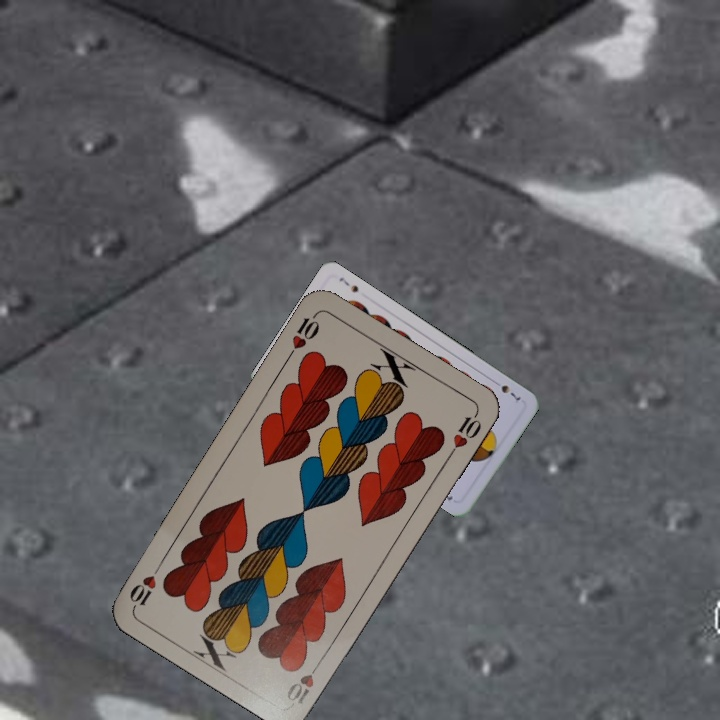H10: (282, 655, 325, 707), (282, 309, 323, 362)
S7: (489, 376, 523, 403)
